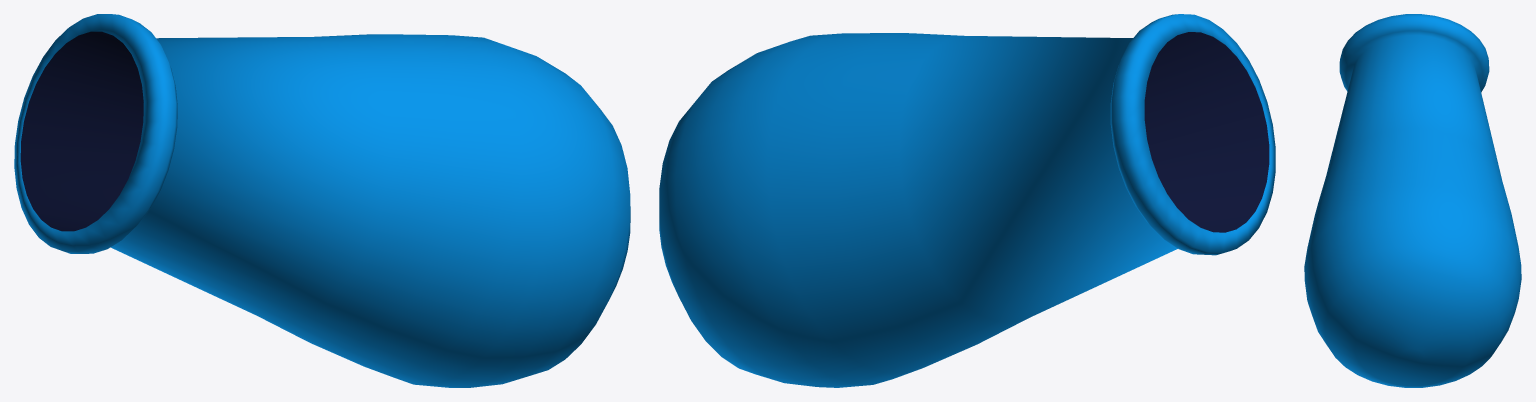
Rendered from top1.fbx.
3 views of the same model, side by side, from view 1: azimuth 30°, elevation 25°; view 2: azimuth 150°, elevation 25°; view 3: azimuth 270°, elevation 25° (orthographic). The views are drawn at different scales.
Visible parts, largest first — view 1: Cylinder.002; view 2: Cylinder.002; view 3: Cylinder.002.
Part boxes in pixels (box(x1,y1,x2,y2)): Cylinder.002: box(14, 14, 630, 387); Cylinder.002: box(659, 14, 1275, 387); Cylinder.002: box(1304, 14, 1521, 387).
Bounding box in the file's own units: 755 × 555 × 412.
